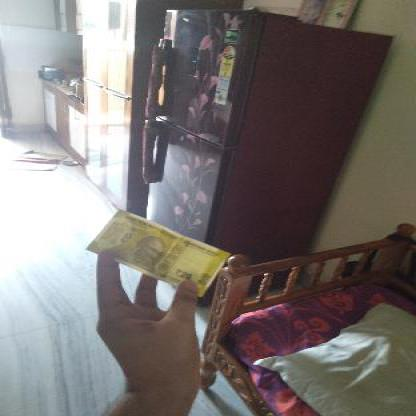New20Front: (84, 209, 232, 296)
